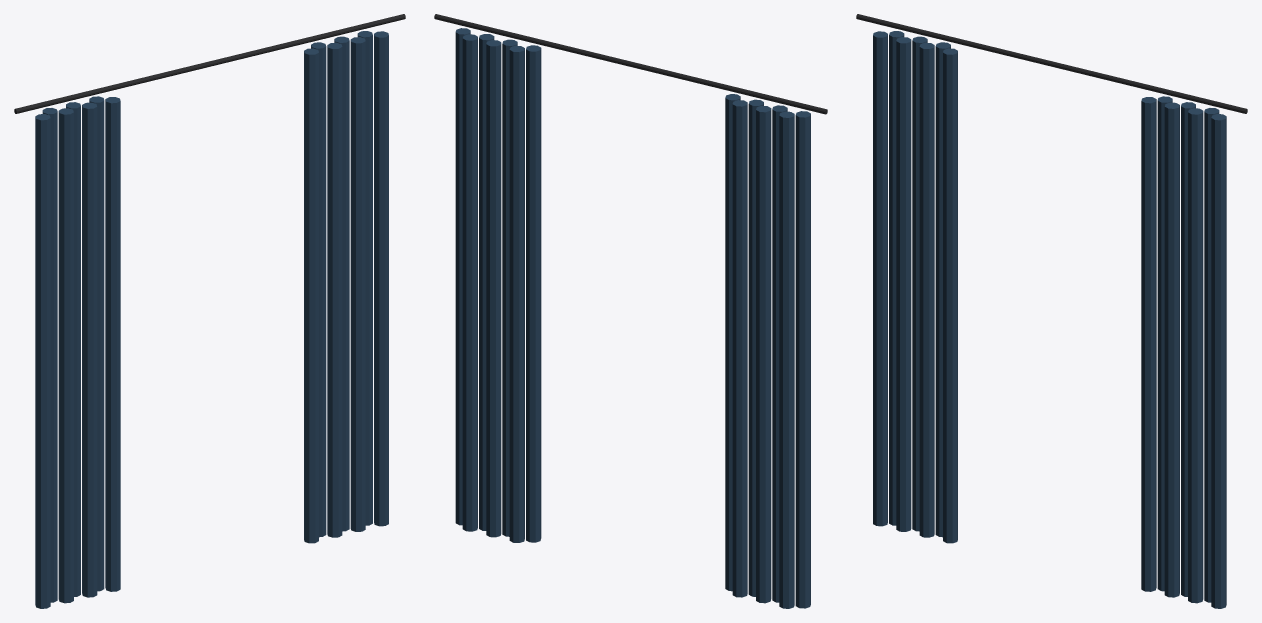
File: i_curtain_2.glb
3 renders of one model, left to right at view 1: azimuth 30°, elevation 25°; view 2: azimuth 150°, elevation 25°; view 3: azimuth 330°, elevation 25°, orthographic.
Visible parts, largest first — view 1: o.005, o.003, o.012, o.001, o.007, o.010, o.014, o.008, o.011, o.006, o.013, o.002 (+3 smaller); view 2: o.001, o.002, o.006, o.011, o.009, o.014, o.004, o.013, o.008, o.003, o.012, o.007 (+3 smaller); view 3: o.012, o.010, o.005, o.003, o.008, o.014, o.007, o.001, o.004, o.013, o.006, o.009 (+3 smaller).
Part boxes in pixels (box(x1,y1,x2,y2)): o.005: box(82, 102, 97, 597); o.003: box(58, 108, 73, 603); o.012: box(327, 42, 342, 537); o.001: box(35, 114, 50, 608); o.007: box(105, 97, 120, 591); o.010: box(350, 37, 365, 531); o.014: box(304, 48, 318, 543); o.008: box(374, 31, 388, 526); o.011: box(334, 36, 349, 531); o.006: box(89, 96, 104, 591); o.013: box(311, 42, 326, 537); o.002: box(42, 108, 57, 602); o.001: box(795, 111, 810, 608); o.002: box(779, 111, 794, 608); o.006: box(732, 100, 747, 597); o.011: box(486, 40, 501, 537); o.009: box(462, 34, 477, 531); o.014: box(526, 45, 541, 542); o.004: box(756, 106, 771, 603); o.013: box(509, 45, 524, 542); o.008: box(455, 28, 470, 525); o.003: box(772, 105, 787, 602); o.012: box(502, 39, 517, 536); o.007: box(725, 94, 740, 591); o.012: box(1164, 102, 1179, 597); o.010: box(1188, 108, 1203, 603); o.005: box(919, 42, 934, 537); o.003: box(896, 37, 911, 531); o.008: box(1211, 114, 1226, 608); o.014: box(1141, 97, 1156, 591); o.007: box(943, 48, 957, 543); o.001: box(873, 31, 887, 526); o.004: box(912, 36, 927, 531); o.013: box(1157, 96, 1172, 591); o.006: box(935, 42, 950, 537); o.009: box(1204, 108, 1219, 602).
Size of the model in its own units: 2 by 2.46 by 0.11.
